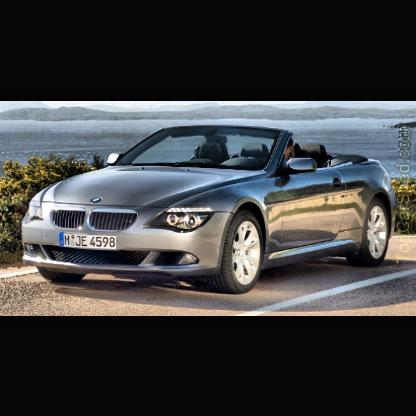BMW M6 Convertible 2010: (23, 124, 398, 295)
